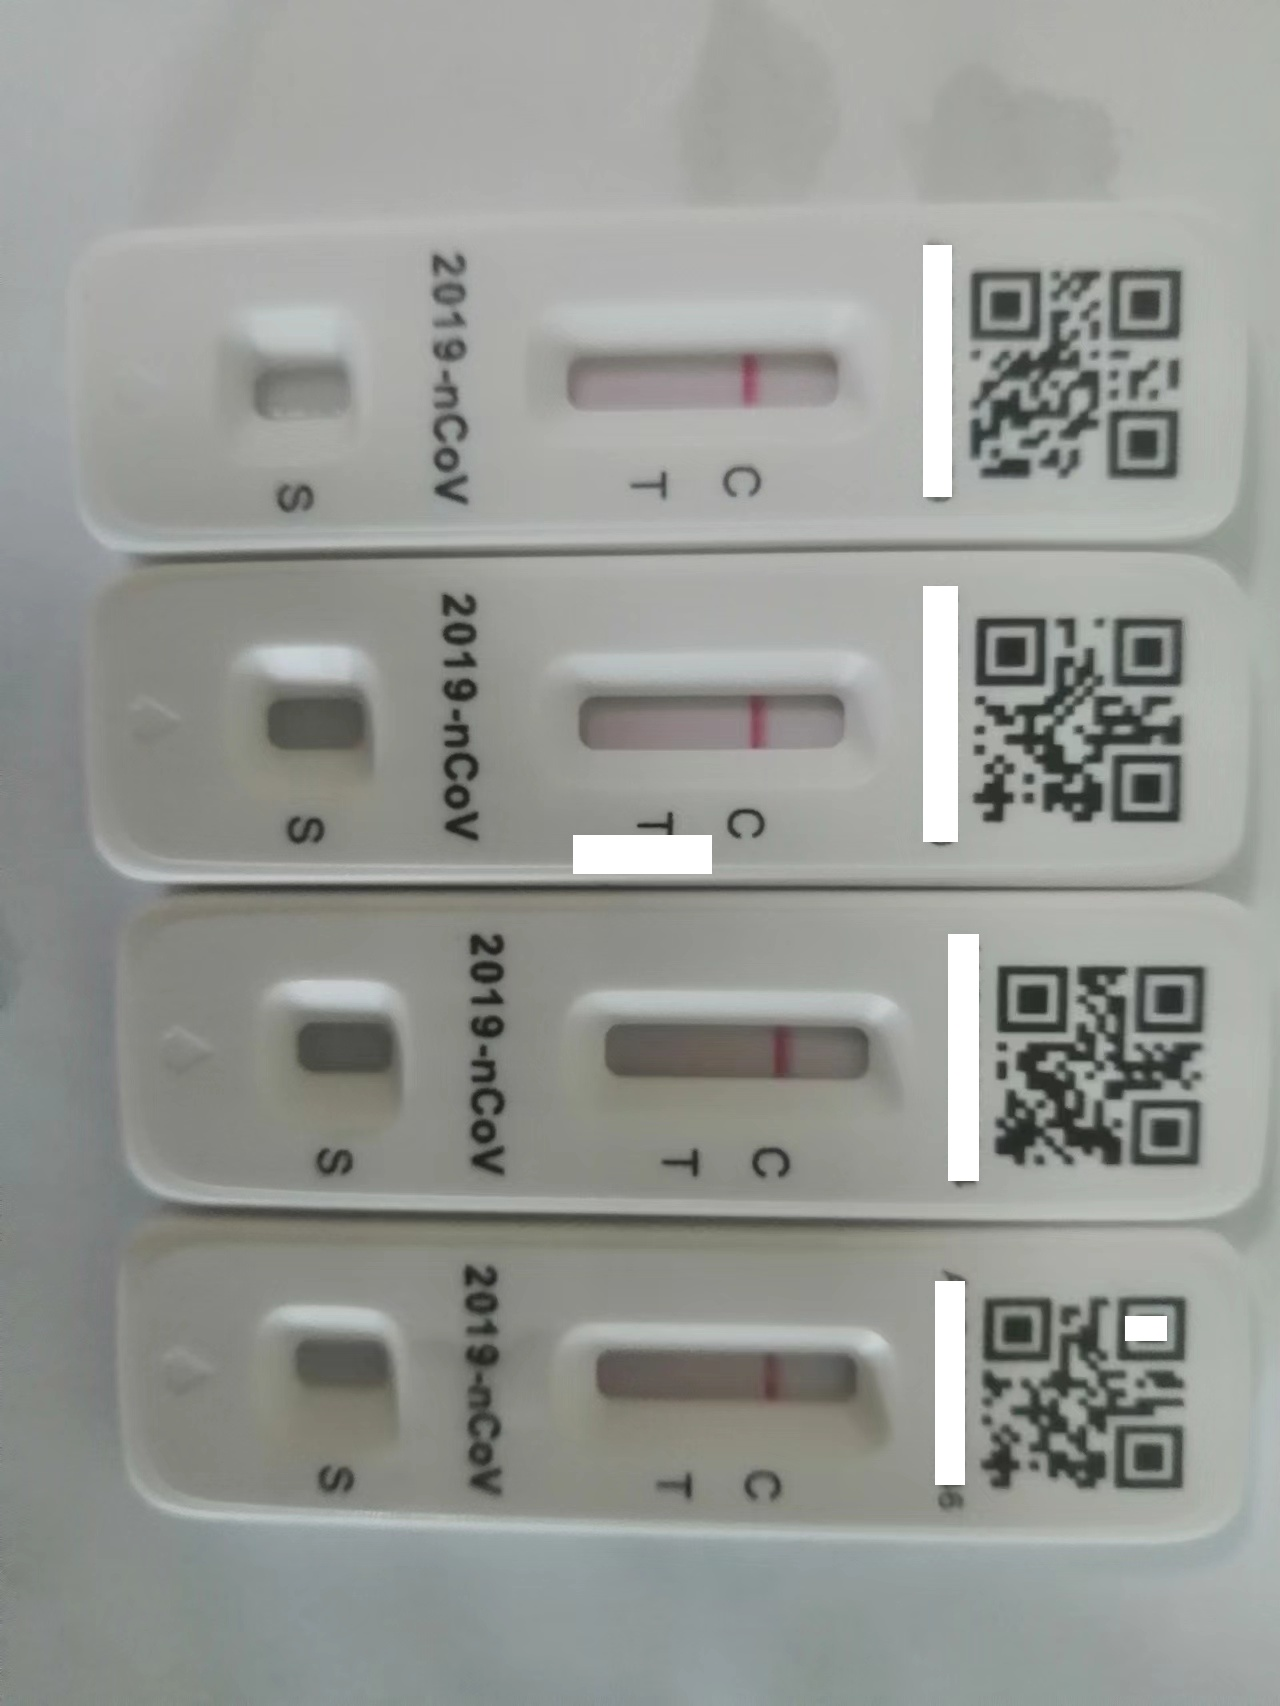negative: (536, 300, 879, 453), (541, 1328, 891, 1465), (545, 656, 889, 788), (567, 999, 908, 1127)
